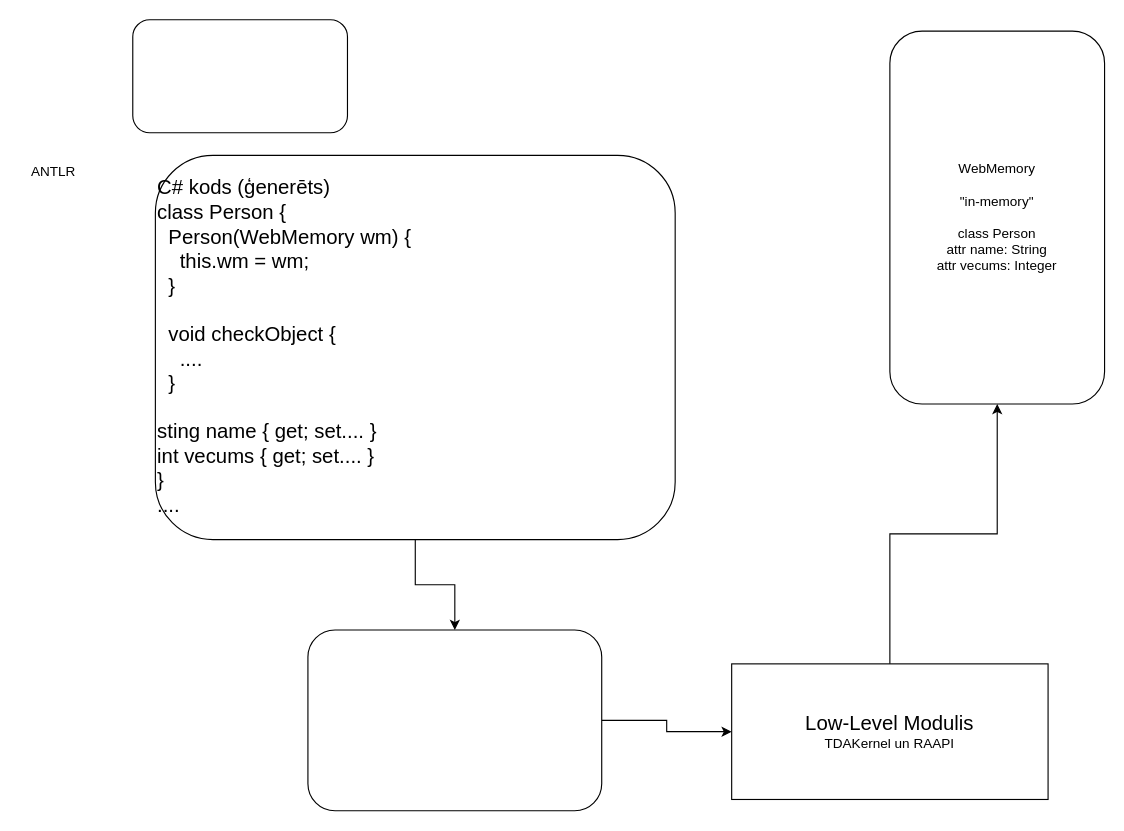
The diagram is 1124 pixels wide and 831 high, and some of its shapes have lost their labels. The centre of each missing label's shape, as x and y in pixels:
High Level Modulis IWebMemory un citas klases no namespace WebAppOS: the point at 454,720
Programma.IDL Interface Definition Language: the point at 239,76
